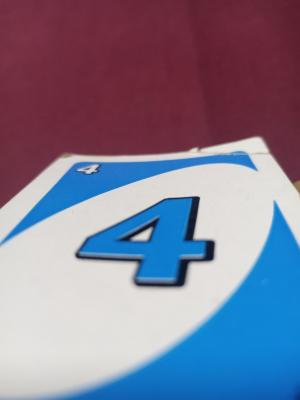blue: (64, 163, 283, 382)
num_4: (70, 158, 110, 184)
